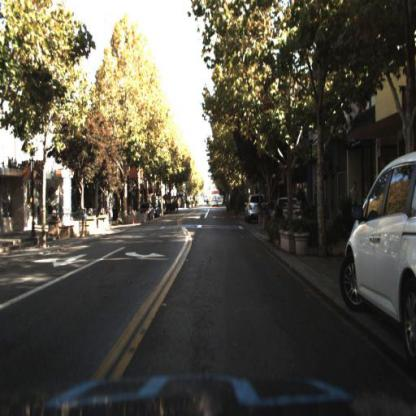car: (342, 151, 416, 365), (271, 196, 305, 224), (244, 193, 265, 227)
pedestrian: (345, 176, 362, 238)
